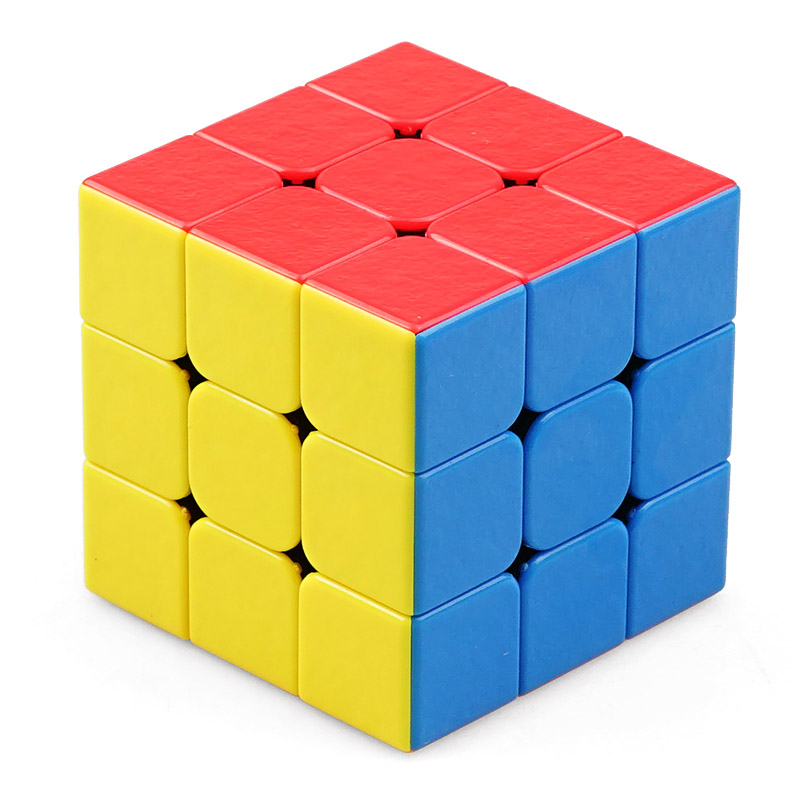cube: (69, 37, 743, 757)
